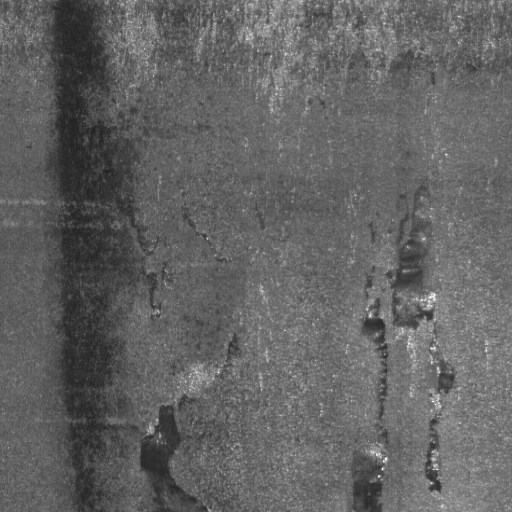aokeng: (136, 401, 208, 510), (392, 184, 441, 334), (358, 296, 390, 512), (426, 331, 457, 499)
